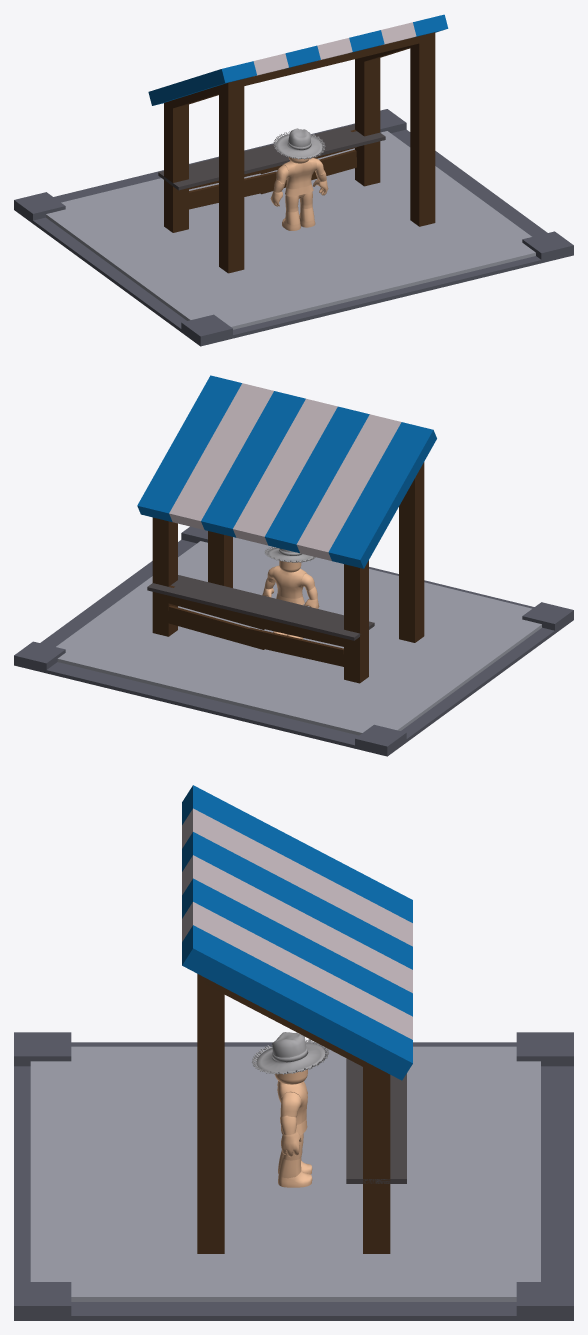
The model's file is baseshop.fbx.
The picture shows the model from 3 angles, top to bottom: view 1: azimuth 30°, elevation 25°; view 2: azimuth 150°, elevation 25°; view 3: azimuth 270°, elevation 25°; orthographic projection. The views are drawn at different scales.
Visible parts, largest first — view 1: shop; view 2: shop; view 3: shop.
Boxes of the visible parts, x1,y1,x2,y2 form: shop: (14, 14, 573, 346); shop: (14, 375, 573, 756); shop: (14, 785, 573, 1320).
Bounding box in the file's own units: 2344 × 1285 × 2028.
